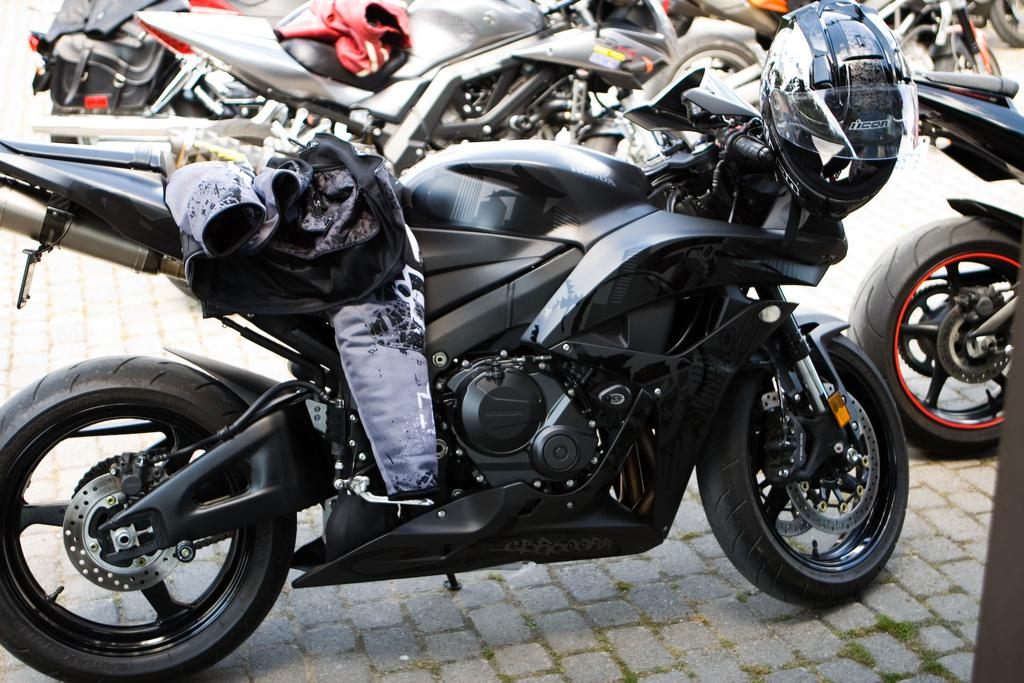helmet: (759, 0, 919, 222)
